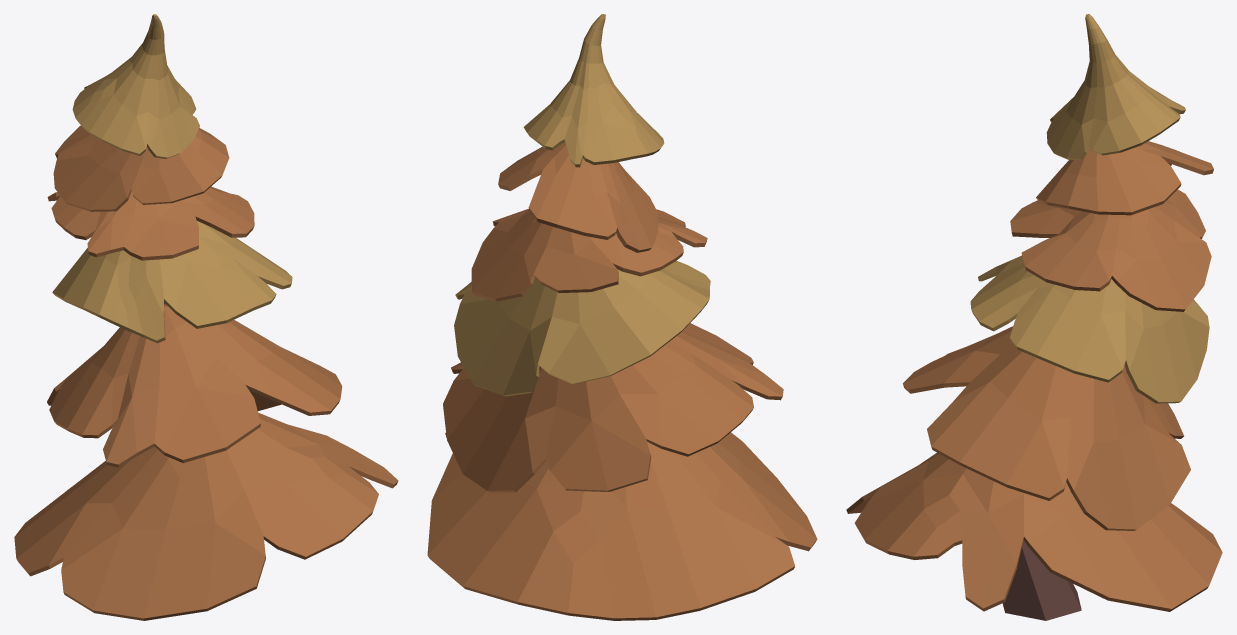
Rendered from PineTree_Autumn_3-transformed.glb.
3 renders of one model, left to right at view 1: azimuth 30°, elevation 25°; view 2: azimuth 150°, elevation 25°; view 3: azimuth 270°, elevation 25°, orthographic. The views are drawn at different scales.
Parts seen in each view (by area): view 1: PineTree_Autumn_3; view 2: PineTree_Autumn_3; view 3: PineTree_Autumn_3.
Part boxes in pixels (bbox=[...]): PineTree_Autumn_3: bbox=[14, 14, 398, 620]; PineTree_Autumn_3: bbox=[427, 14, 817, 620]; PineTree_Autumn_3: bbox=[846, 14, 1222, 620].
Size of the model in its own units: 2.16 by 3.3 by 1.95.
